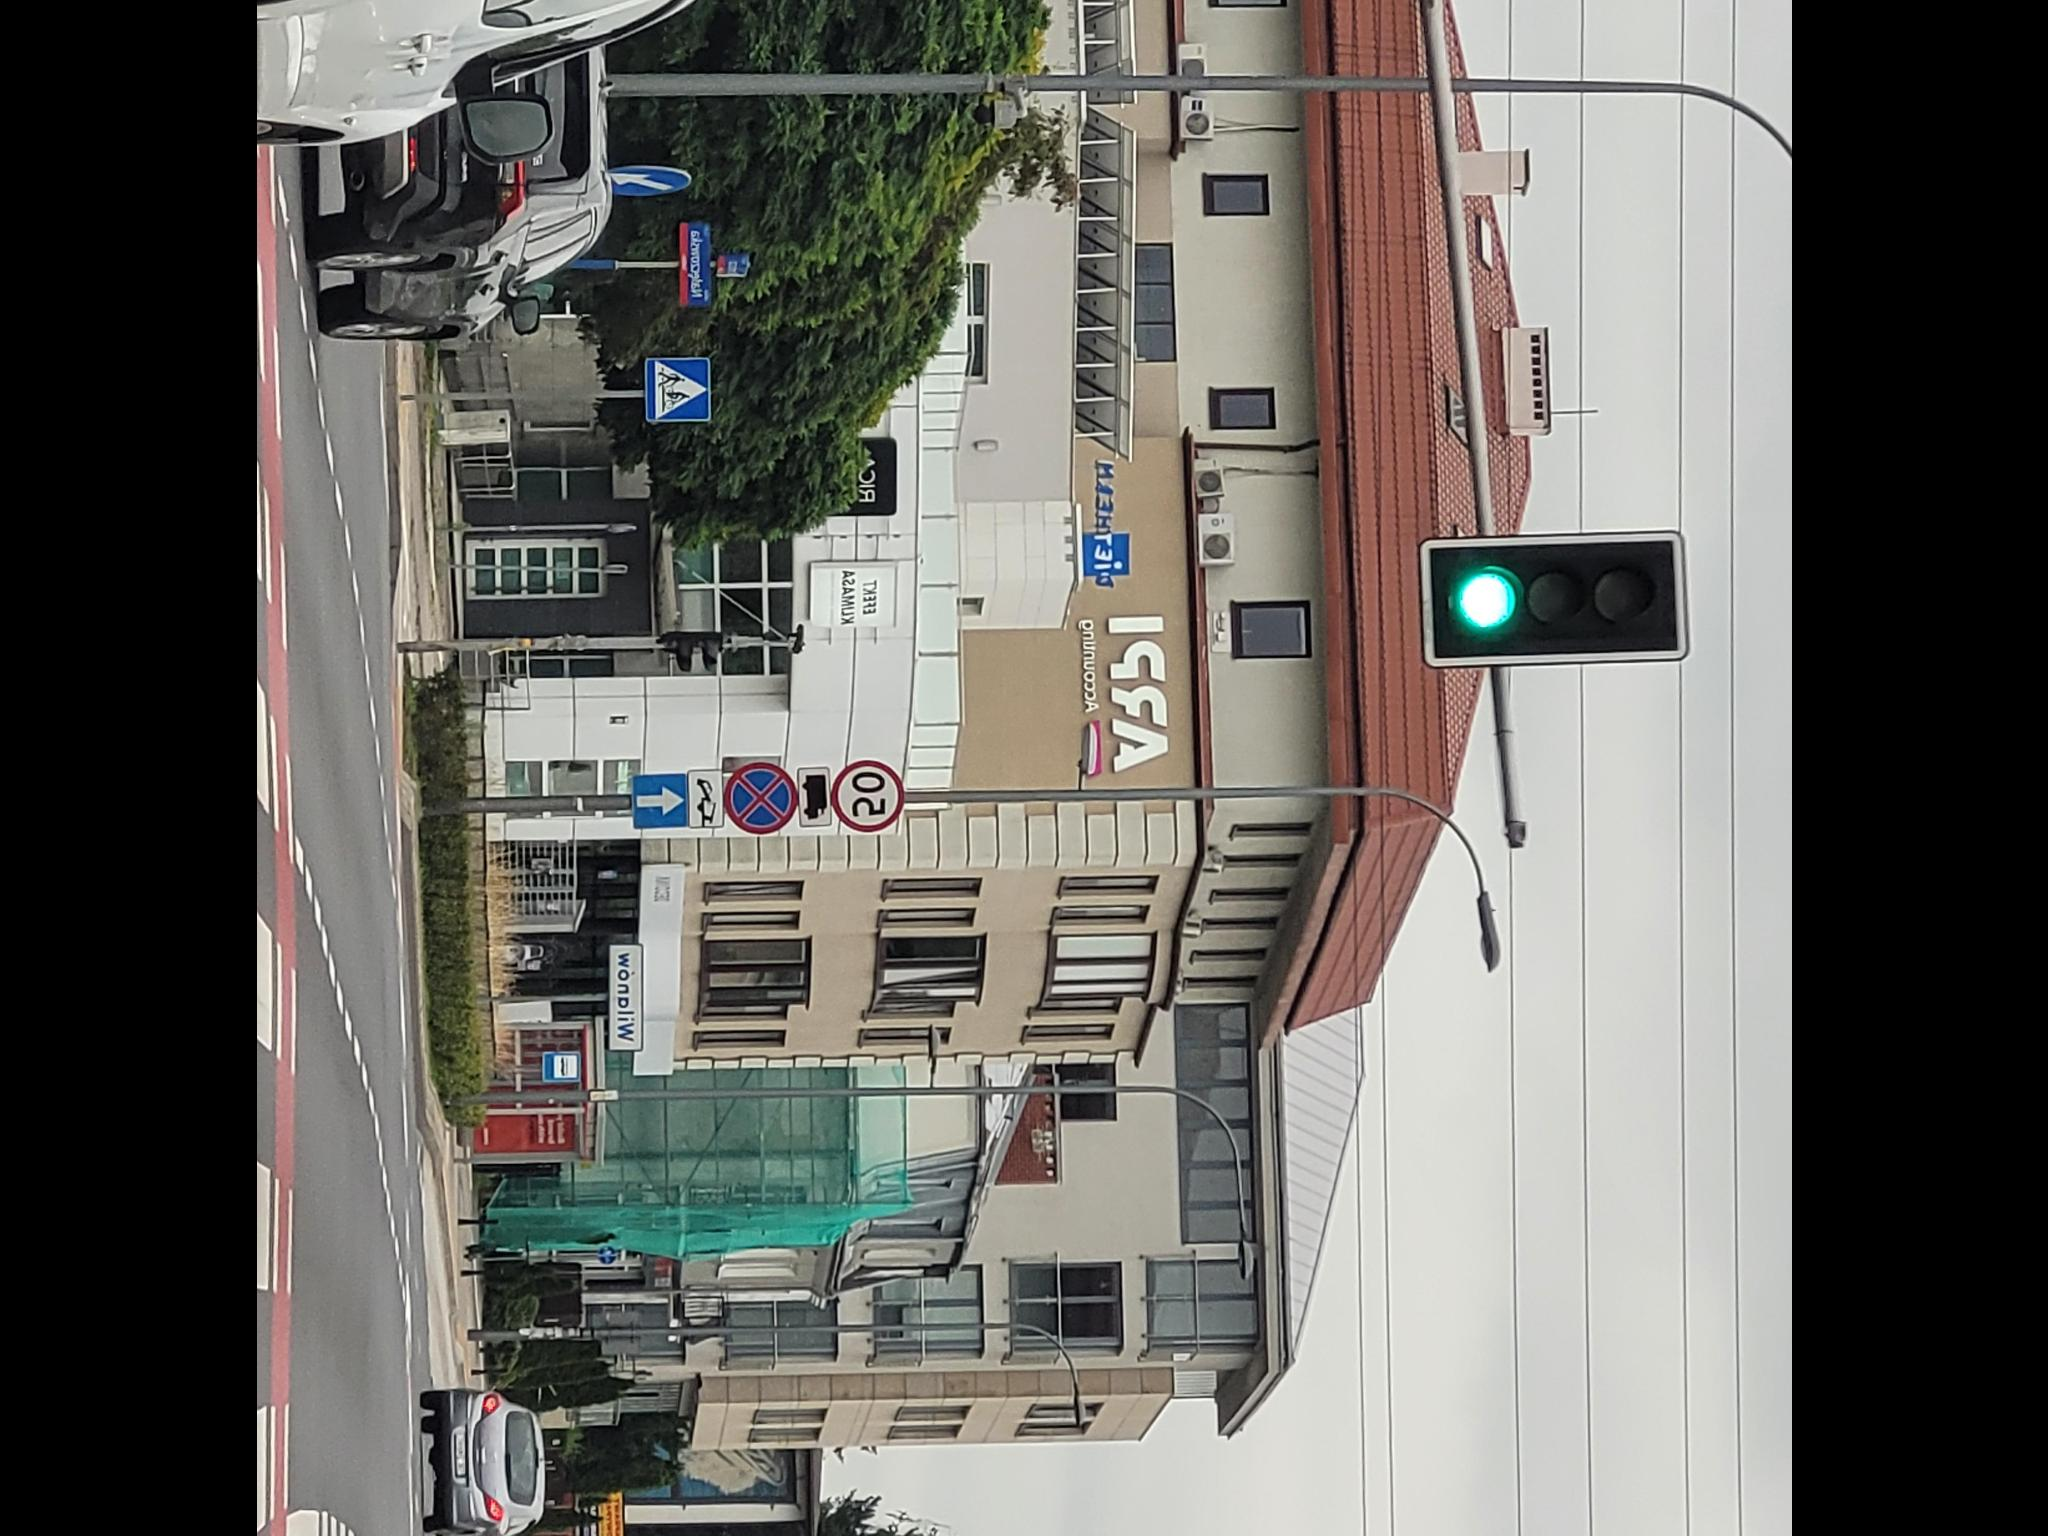direction-city: (608, 944, 642, 1049)
information: (643, 357, 708, 419), (632, 773, 685, 828)
mandatory: (610, 161, 690, 197)
other: (687, 771, 722, 828), (798, 766, 830, 828)
prohibitory: (830, 760, 905, 834), (722, 763, 797, 836)
